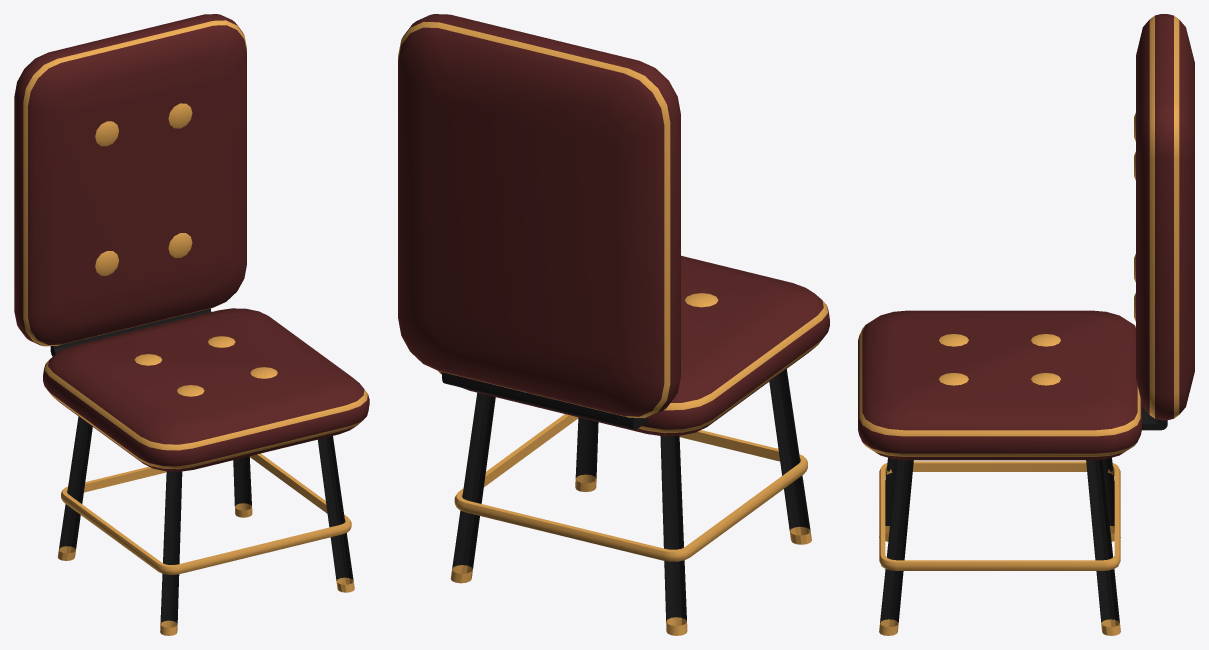
File: chair.fbx
The picture shows the model from 3 angles, left to right: view 1: azimuth 30°, elevation 25°; view 2: azimuth 150°, elevation 25°; view 3: azimuth 270°, elevation 25°; orthographic projection. The views are drawn at different scales.
Visible parts, largest first — view 1: casino chair; view 2: casino chair; view 3: casino chair.
Boxes of the visible parts, x1,y1,x2,y2 form: casino chair: [14, 14, 369, 635]; casino chair: [398, 14, 829, 635]; casino chair: [858, 14, 1194, 635].
Bounding box in the file's own units: 55.46 × 113 × 65.81.
